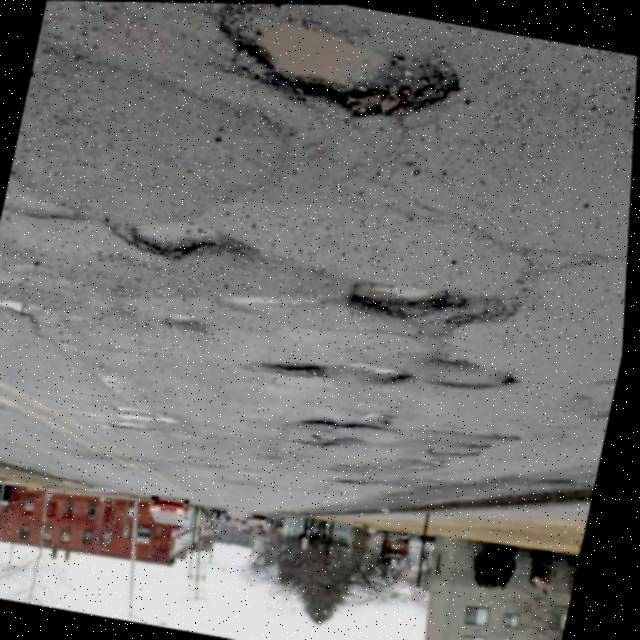Pothole: (145, 2, 523, 190), (321, 238, 549, 365), (96, 182, 277, 296), (285, 383, 430, 472), (198, 266, 344, 346), (225, 337, 354, 413), (0, 161, 98, 248), (97, 389, 201, 460), (0, 272, 87, 354), (420, 401, 541, 457), (326, 344, 429, 405), (157, 293, 220, 344), (581, 383, 619, 438), (428, 436, 493, 465)
